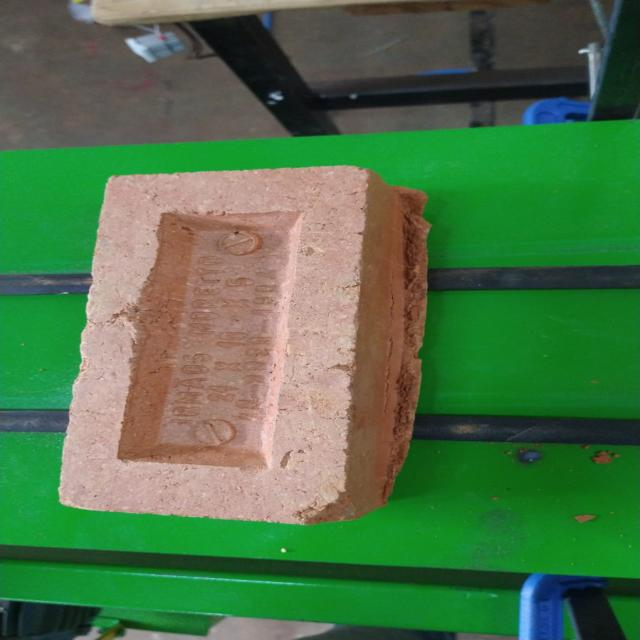bricks_ruin: (57, 165, 431, 528)
